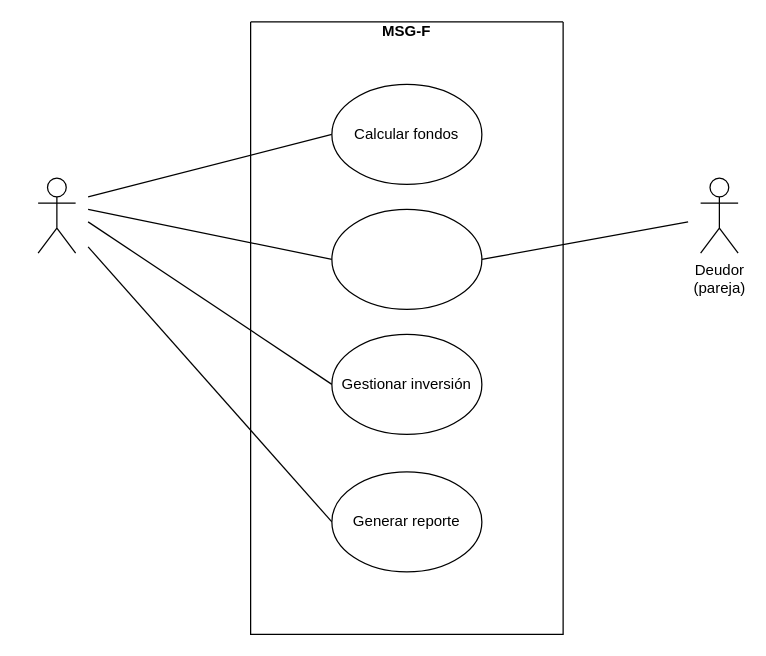
Some shapes in this 766 by 656 pixel diagram are drawn without their labels. Each missing label, with the centre of its shape:
"Empleado MSG-F" belongs at pixel 56 215.
"Gestionar Hipoteca" belongs at pixel 406 258.
